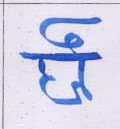au_matra: (59, 31, 101, 100)
